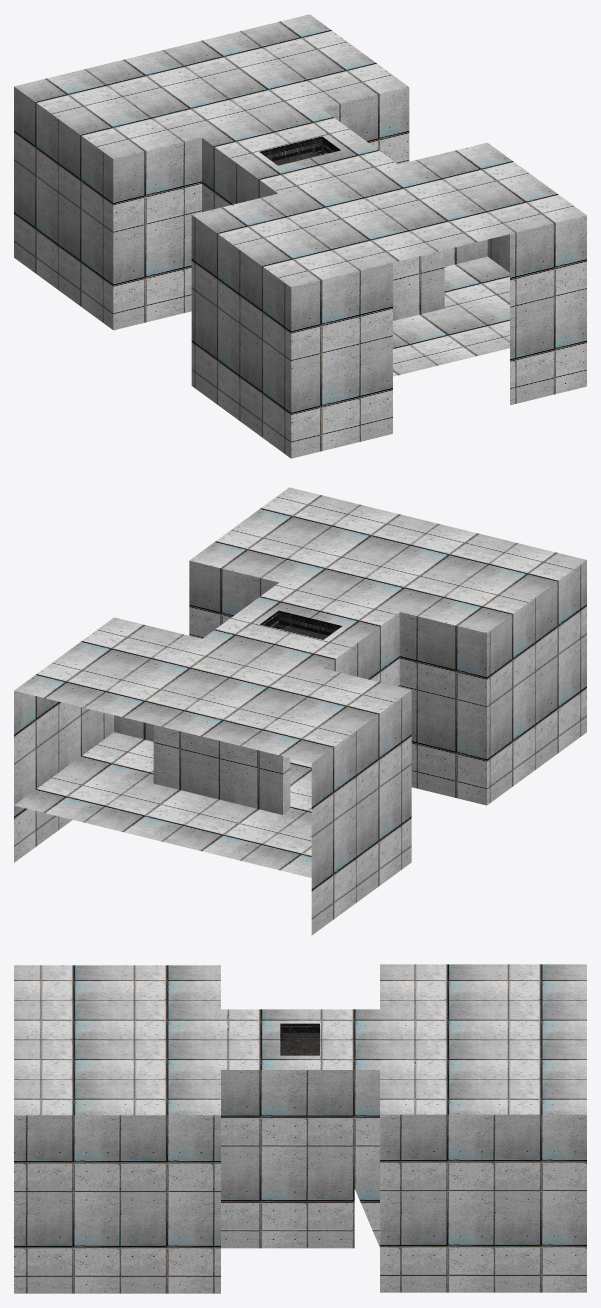
File: subway_entrance.FBX
The picture shows the model from 3 angles, top to bottom: view 1: azimuth 30°, elevation 25°; view 2: azimuth 150°, elevation 25°; view 3: azimuth 270°, elevation 25°; orthographic projection. The views are drawn at different scales.
Parts seen in each view (by area): view 1: Object01; view 2: Object01; view 3: Object01.
Boxes of the visible parts, bbox=[...] form: Object01: bbox=[14, 14, 586, 458]; Object01: bbox=[14, 487, 586, 935]; Object01: bbox=[14, 964, 586, 1293].
Size of the model in its own units: 1530 by 2451 by 841.
